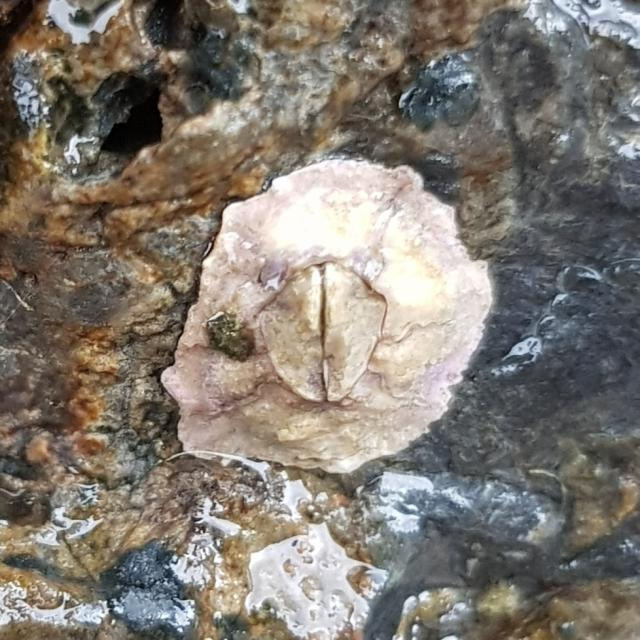barnacles: (152, 160, 494, 486)
